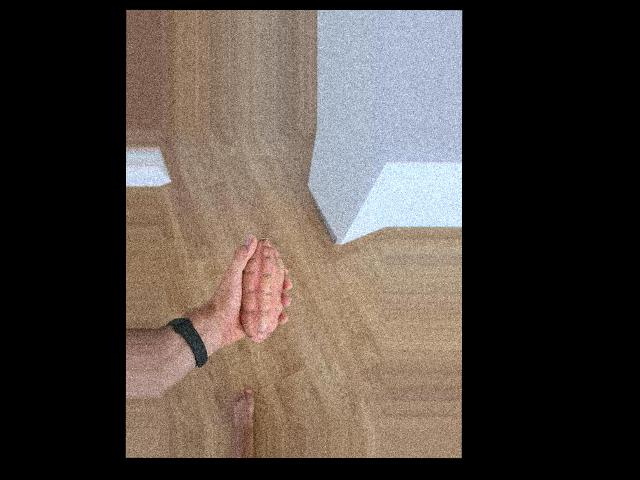sweet_potato: (236, 237, 286, 345)
